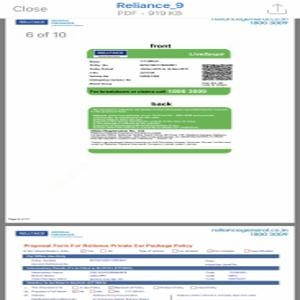text: (87, 59, 190, 87), (209, 15, 290, 28)
